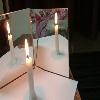fire: (24, 38, 30, 61)
